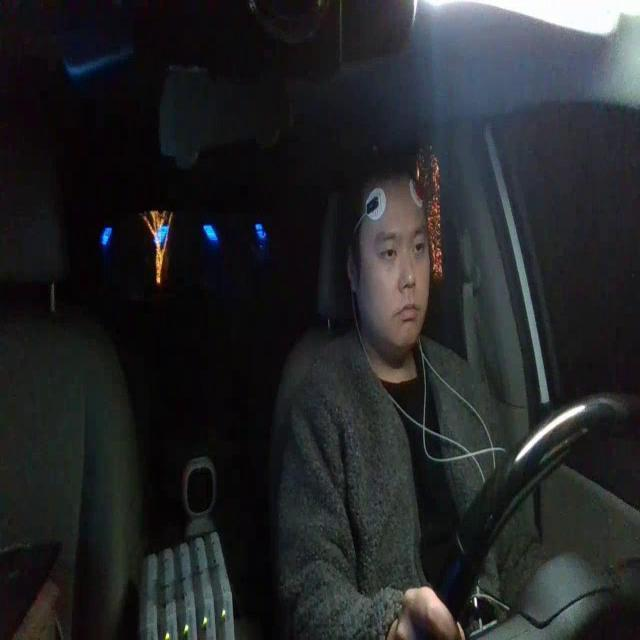Attentive: (344, 150, 433, 355)
